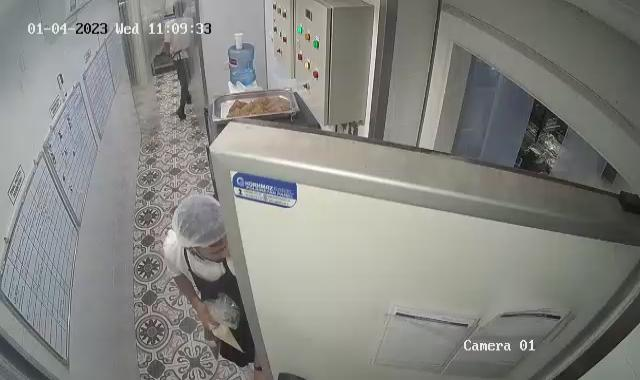hairnet: (171, 195, 226, 251)
